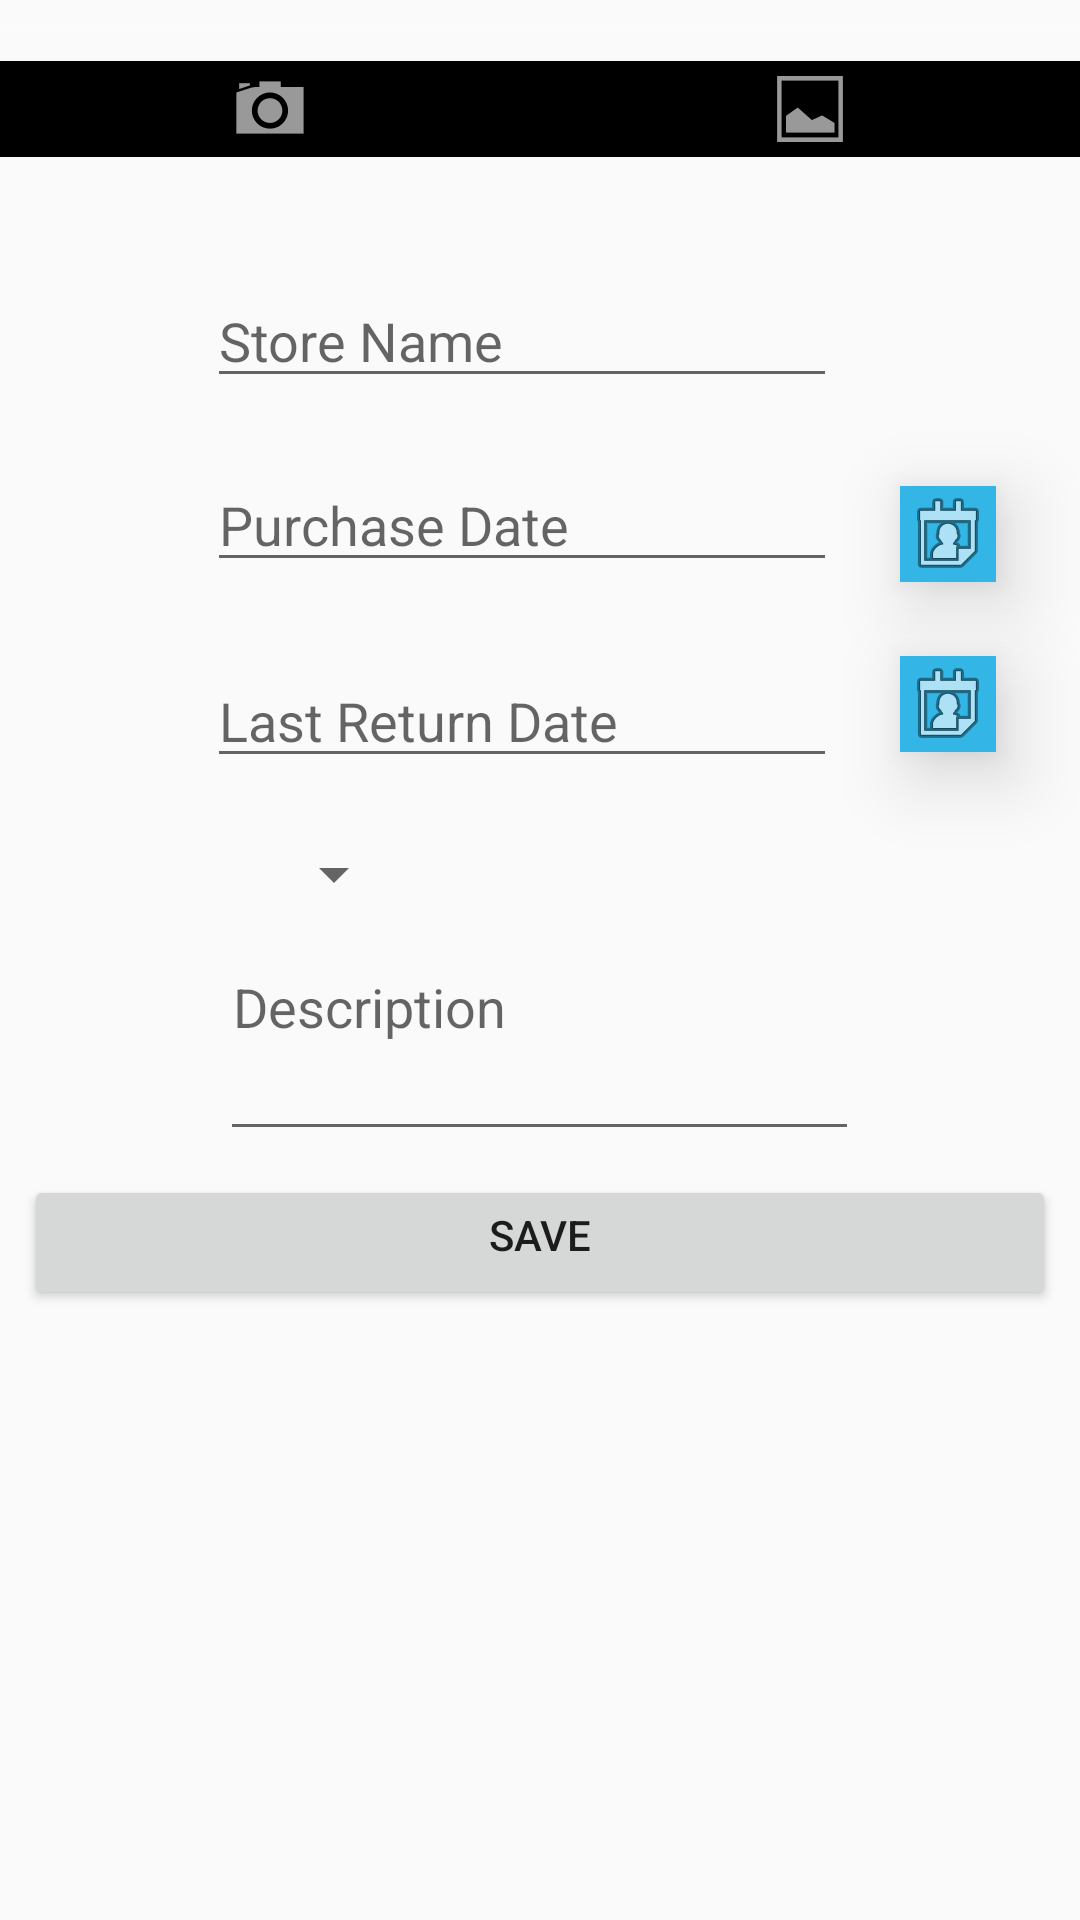

Icons on this 1080w x 1920h Android screen, each with its box as {"left": x1, "top": y1, "right": x2, "bottom": y2}:
calendar: {"left": 900, "top": 486, "right": 996, "bottom": 582}, {"left": 900, "top": 656, "right": 996, "bottom": 752}
